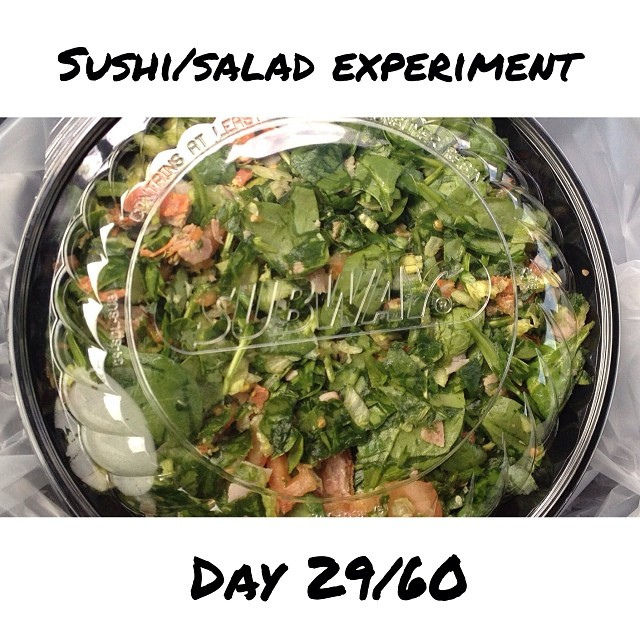chopped lettuce: (122, 141, 540, 493)
